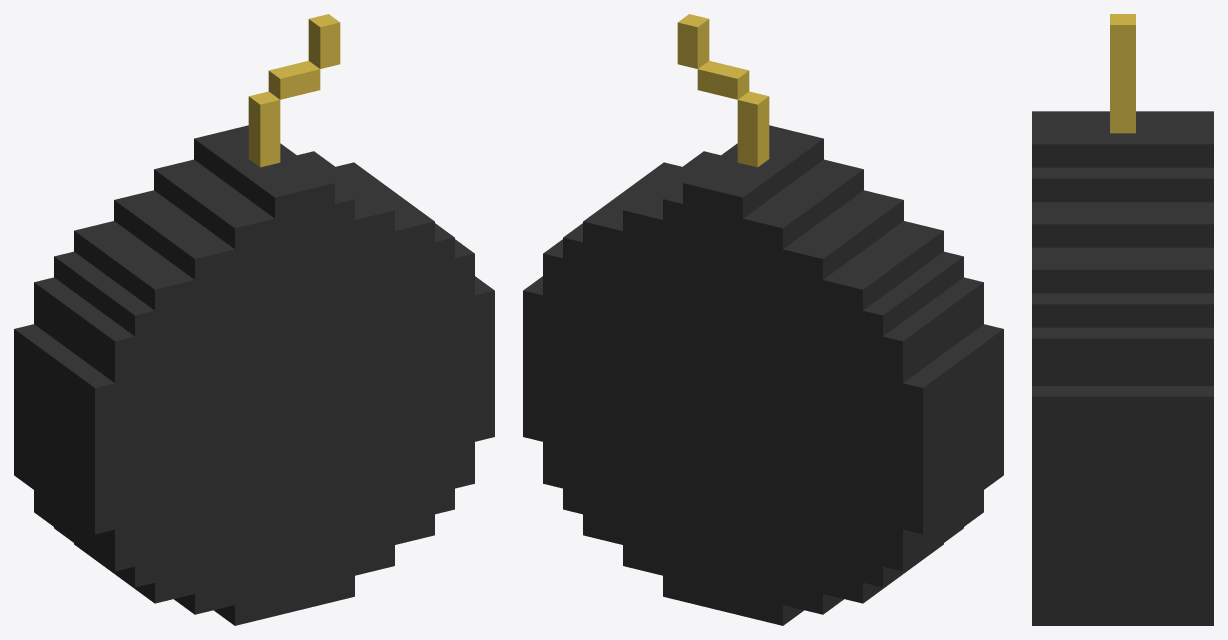
Rendered from Bomb.dae.
3 renders of one model, left to right at view 1: azimuth 30°, elevation 25°; view 2: azimuth 150°, elevation 25°; view 3: azimuth 270°, elevation 25°, orthographic. The views are drawn at different scales.
Visible parts, largest first — view 1: Bomb; view 2: Bomb; view 3: Bomb.
Part boxes in pixels (bbox=[...]): Bomb: bbox=[14, 14, 494, 625]; Bomb: bbox=[523, 14, 1003, 625]; Bomb: bbox=[1032, 14, 1213, 625].
Size of the model in its own units: 20 by 26 by 7.
Materials: 1 (1 with a texture image).
